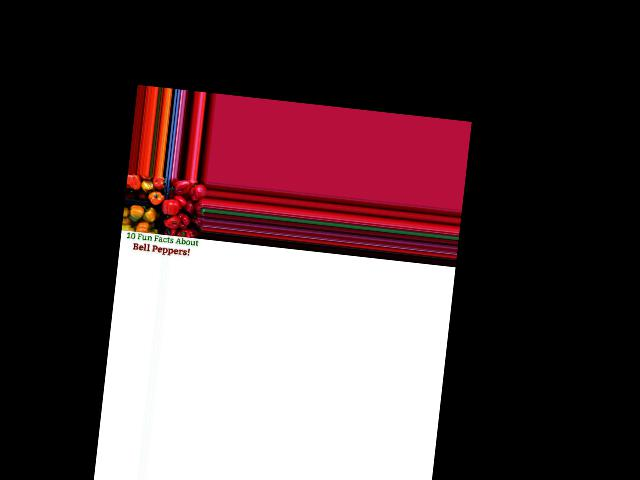bell_pepper: (172, 224, 195, 240)
